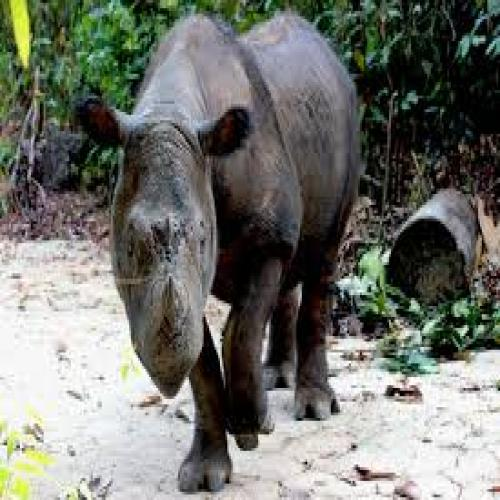rhino-endangered: (79, 11, 359, 494)
